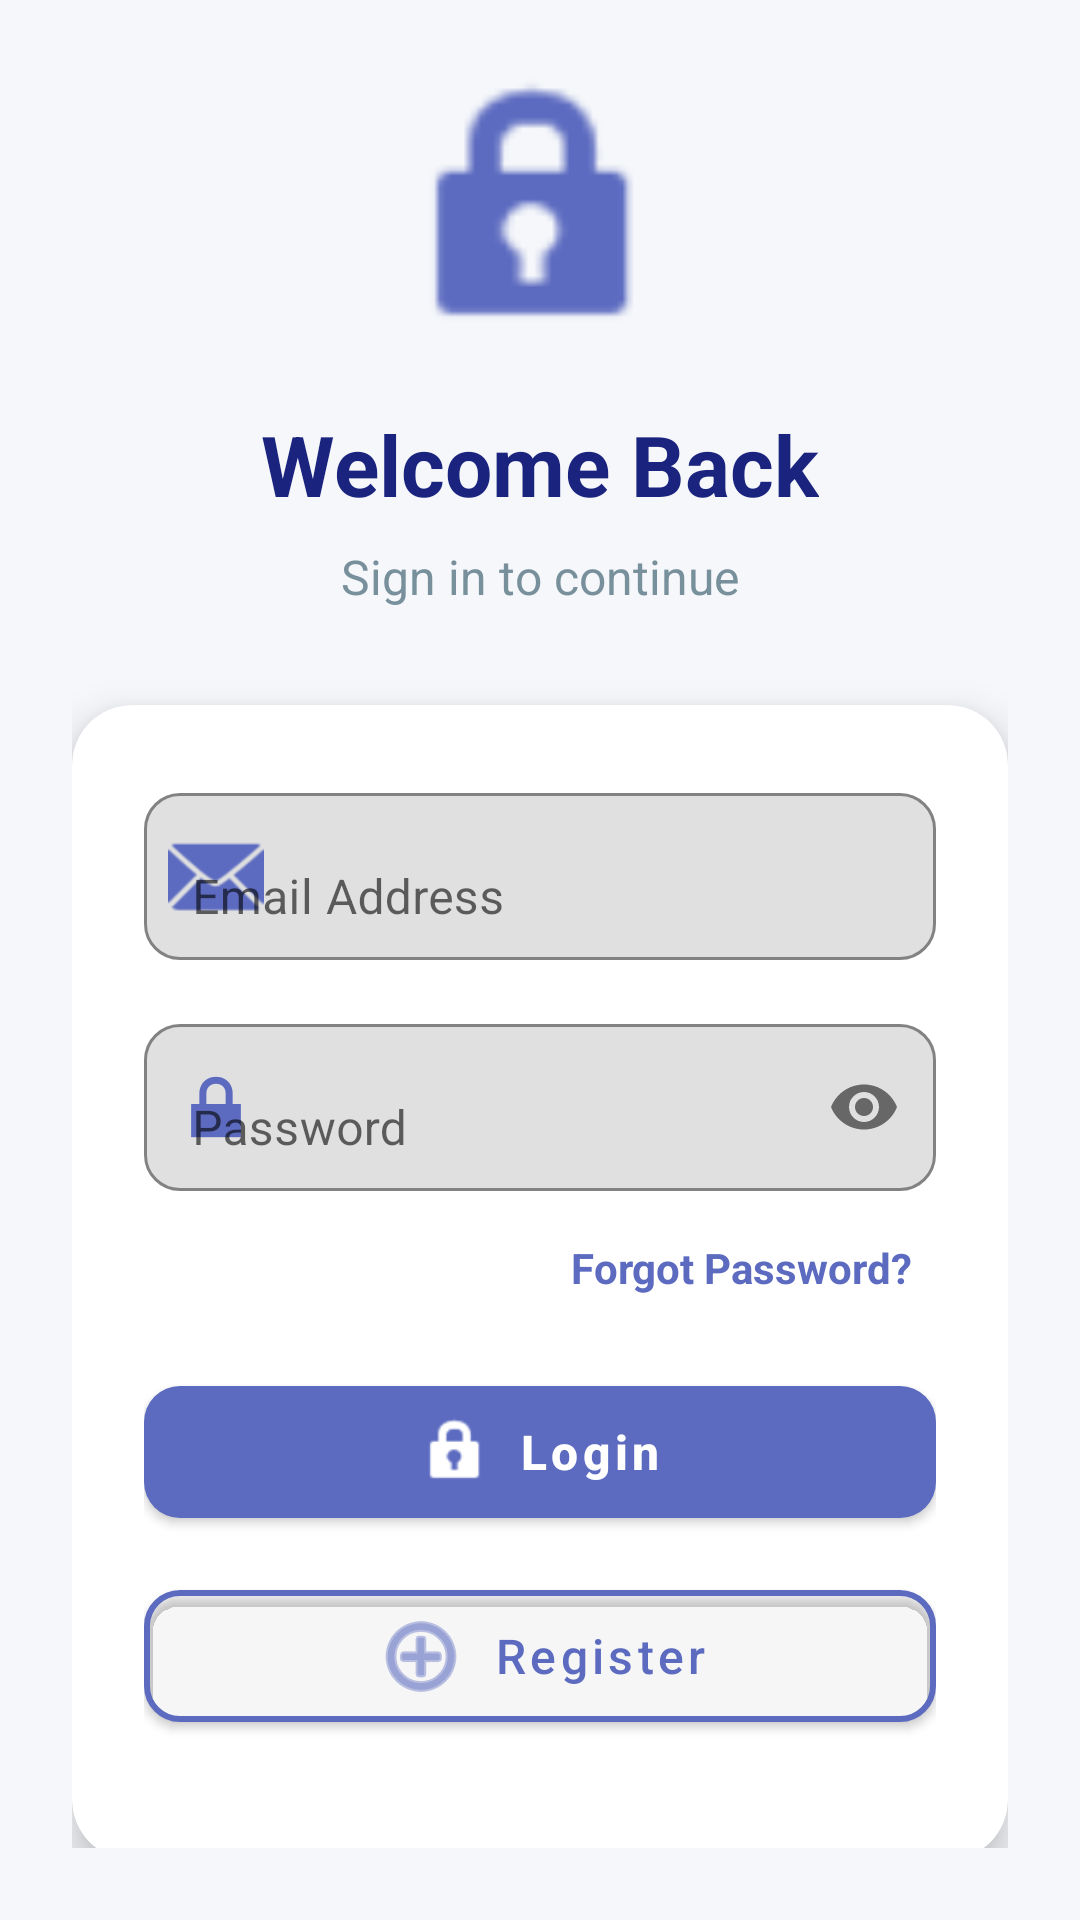

Screen size 1080*1920. Icon name, then its center in pixels as [x,y]:
lock idle: [533,202]
